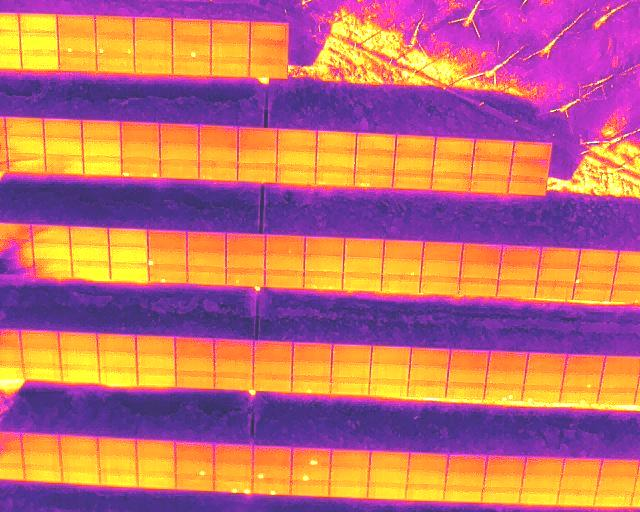Cell: (173, 36, 212, 57), (58, 35, 97, 53), (575, 267, 616, 284), (382, 259, 421, 276), (292, 449, 331, 466), (147, 250, 188, 266), (149, 266, 187, 283), (563, 371, 602, 387), (292, 376, 330, 392), (175, 460, 213, 476), (253, 463, 291, 479), (226, 270, 265, 285), (291, 466, 330, 481), (523, 385, 560, 400), (560, 388, 598, 402), (253, 480, 290, 494)
Cell-Multi: (96, 36, 134, 55), (304, 273, 343, 290), (122, 162, 159, 178), (483, 385, 522, 400), (215, 477, 252, 492), (354, 175, 393, 187)
No-Anomaly: (82, 140, 122, 164), (304, 236, 344, 257), (44, 139, 83, 160), (463, 243, 502, 264), (160, 126, 200, 146), (394, 155, 434, 175), (18, 13, 58, 33), (240, 130, 278, 151), (502, 245, 540, 266), (120, 123, 159, 143), (276, 151, 315, 171), (96, 15, 135, 35), (424, 242, 463, 262), (266, 234, 305, 254), (70, 226, 109, 246), (146, 230, 187, 249), (200, 129, 238, 149), (355, 135, 395, 154), (395, 136, 435, 155), (6, 137, 46, 156), (474, 141, 512, 161), (238, 150, 276, 170), (317, 152, 355, 172), (355, 155, 395, 174), (134, 55, 174, 74), (578, 249, 618, 268), (58, 14, 96, 34), (226, 233, 266, 252), (175, 336, 214, 355), (434, 157, 473, 176), (20, 33, 59, 52), (343, 257, 382, 276), (134, 17, 173, 36), (384, 240, 423, 259), (187, 232, 226, 251), (540, 248, 579, 267), (250, 58, 287, 78), (160, 147, 201, 165), (344, 239, 385, 257), (5, 118, 43, 137), (82, 123, 120, 142), (44, 120, 82, 139), (316, 133, 354, 152), (122, 143, 160, 162), (134, 36, 172, 55), (409, 452, 447, 471), (108, 229, 148, 247), (210, 39, 250, 57), (436, 140, 473, 159), (201, 149, 238, 168), (253, 340, 292, 358), (71, 261, 110, 279), (34, 260, 73, 278), (211, 58, 250, 76), (174, 57, 213, 75), (277, 133, 316, 151), (370, 451, 409, 469), (448, 455, 487, 473), (329, 481, 368, 499), (21, 53, 60, 71), (59, 54, 98, 72), (109, 247, 148, 265), (422, 261, 463, 278), (330, 450, 371, 467), (264, 254, 305, 271), (333, 343, 371, 361), (265, 271, 303, 289), (525, 457, 563, 475), (97, 55, 135, 73), (253, 446, 291, 464), (175, 354, 215, 371), (409, 364, 449, 381), (382, 276, 422, 293), (460, 263, 500, 280), (471, 161, 511, 178), (20, 434, 60, 451), (305, 256, 345, 273), (471, 177, 511, 194), (597, 388, 639, 404), (460, 279, 497, 297), (250, 40, 287, 58), (510, 177, 547, 195), (136, 335, 175, 352), (371, 345, 410, 362), (450, 348, 489, 365), (370, 362, 409, 379), (212, 21, 251, 38), (136, 470, 175, 487), (485, 473, 524, 490), (291, 480, 330, 497), (32, 244, 73, 260), (528, 352, 566, 369), (293, 342, 331, 359), (176, 443, 214, 460), (99, 468, 137, 485), (173, 18, 211, 35), (187, 251, 225, 268), (486, 457, 524, 474), (448, 366, 488, 382), (536, 267, 576, 283), (213, 445, 253, 461), (70, 246, 110, 262), (535, 283, 572, 300), (22, 332, 59, 349), (60, 333, 97, 350), (99, 334, 136, 351), (215, 340, 252, 357), (602, 370, 639, 387), (501, 264, 538, 281), (566, 354, 603, 371), (514, 143, 551, 160), (601, 459, 638, 476), (564, 458, 601, 475), (497, 282, 536, 298), (411, 348, 450, 364), (254, 358, 293, 374), (332, 361, 371, 377), (526, 369, 565, 385), (421, 278, 460, 294), (486, 368, 525, 384), (293, 359, 332, 375), (214, 373, 253, 389), (60, 436, 99, 452), (408, 380, 447, 396), (431, 177, 470, 193), (98, 453, 137, 469), (20, 451, 61, 466), (63, 364, 99, 381), (111, 264, 147, 281), (574, 284, 612, 300), (61, 349, 99, 365), (215, 357, 253, 373), (137, 369, 175, 385), (331, 378, 369, 394), (61, 468, 99, 484), (407, 483, 445, 499), (482, 487, 520, 503), (187, 269, 227, 284), (226, 254, 266, 269), (250, 23, 287, 39), (138, 353, 175, 369), (370, 379, 407, 395), (23, 466, 60, 482), (176, 371, 215, 386), (489, 352, 528, 367), (137, 440, 176, 455), (160, 164, 199, 179), (393, 175, 432, 190), (604, 355, 640, 371), (61, 451, 97, 467), (22, 349, 60, 364), (99, 351, 137, 366), (99, 367, 137, 382), (98, 438, 136, 453), (45, 160, 83, 175), (137, 456, 175, 471), (523, 475, 561, 490), (597, 476, 635, 491), (368, 483, 406, 498), (343, 276, 383, 290), (512, 161, 547, 177), (445, 485, 482, 500), (253, 374, 292, 388), (329, 467, 368, 481), (445, 470, 484, 484), (561, 476, 600, 490), (559, 491, 598, 505), (213, 463, 252, 477), (277, 170, 315, 184), (520, 490, 558, 504), (447, 383, 485, 397), (370, 468, 408, 482), (407, 471, 447, 484), (24, 365, 61, 379), (239, 170, 276, 184), (315, 172, 352, 185), (177, 476, 213, 489), (595, 492, 631, 505), (83, 164, 121, 176), (201, 169, 237, 181)
Shadowing: (7, 153, 46, 173), (31, 225, 70, 243)
